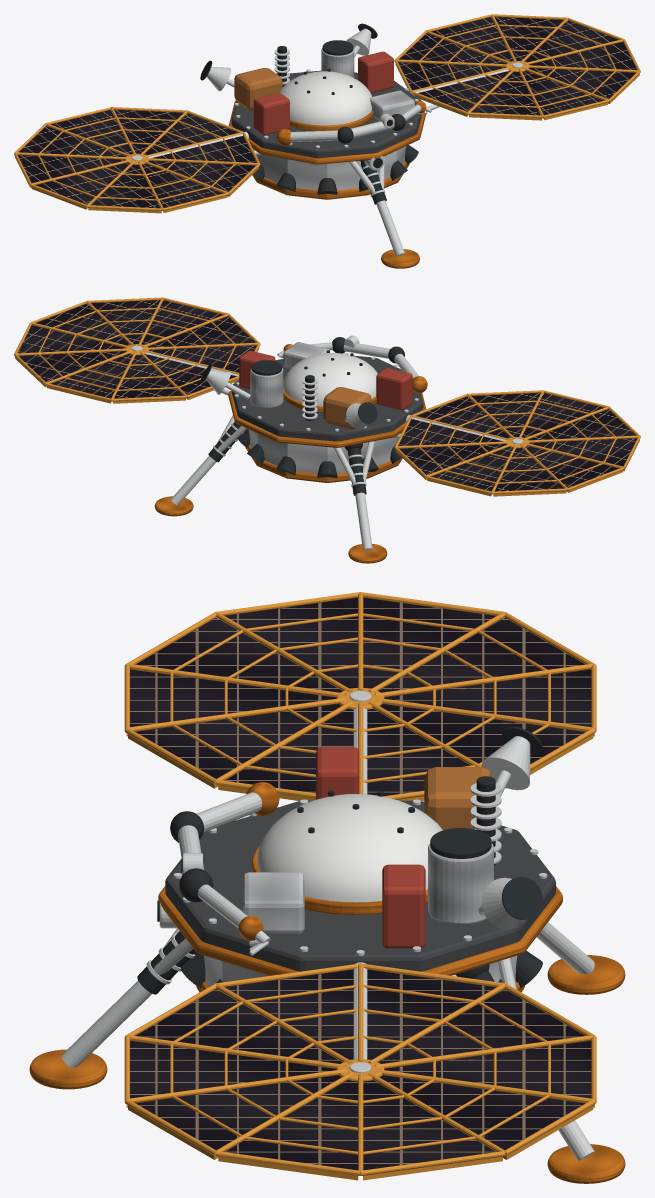
Rendered from insight.glb.
The picture shows the model from 3 angles, top to bottom: view 1: azimuth 30°, elevation 25°; view 2: azimuth 150°, elevation 25°; view 3: azimuth 270°, elevation 25°; orthographic projection. The views are drawn at different scales.
Visible parts, largest first — view 1: SEIS wind shield / white dome, Science deck / black top plate, Thermal enclosure / silver avionics body, Solar array +1 / wedge 07, Solar array -1 / wedge 07, Solar array -1 / wedge 08, Solar array +1 / wedge 08, Solar array -1 / wedge 06, Solar array +1 / wedge 09, Solar array -1 / wedge 09, Solar array -1 / wedge 05, Solar array +1 / wedge 05 (+27 smaller); view 2: Science deck / black top plate, SEIS wind shield / white dome, Thermal enclosure / silver avionics body, Solar array +1 / wedge 04, Solar array -1 / wedge 04, Solar array -1 / wedge 03, Solar array +1 / wedge 03, Solar array -1 / wedge 05, Solar array +1 / wedge 02, Solar array -1 / wedge 02, Solar array -1 / wedge 06, Solar array +1 / wedge 09 (+26 smaller); view 3: Science deck / black top plate, SEIS wind shield / white dome, Solar array +1 / wedge 01, Solar array +1 / wedge 10, Solar array +1 / wedge 02, Solar array +1 / wedge 09, Solar array -1 / wedge 09, Solar array +1 / wedge 08, Solar array -1 / wedge 08, Solar array +1 / wedge 03, Solar array -1 / wedge 03, Solar array -1 / wedge 05 (+51 smaller).
Boxes of the visible parts, bbox=[...] form: SEIS wind shield / white dome: bbox=[279, 71, 372, 125]; Science deck / black top plate: bbox=[231, 70, 421, 158]; Thermal enclosure / silver avionics body: bbox=[253, 146, 406, 190]; Solar array +1 / wedge 07: bbox=[469, 72, 541, 120]; Solar array -1 / wedge 07: bbox=[88, 164, 161, 213]; Solar array -1 / wedge 08: bbox=[142, 163, 227, 212]; Solar array +1 / wedge 08: bbox=[522, 71, 607, 120]; Solar array -1 / wedge 06: bbox=[31, 162, 129, 209]; Solar array +1 / wedge 09: bbox=[529, 68, 639, 103]; Solar array -1 / wedge 09: bbox=[148, 161, 258, 196]; Solar array -1 / wedge 05: bbox=[15, 155, 125, 187]; Solar array +1 / wedge 05: bbox=[395, 62, 505, 91]; Science deck / black top plate: bbox=[231, 355, 423, 441]; SEIS wind shield / white dome: bbox=[283, 353, 377, 406]; Thermal enclosure / silver avionics body: bbox=[248, 429, 401, 473]; Solar array +1 / wedge 04: bbox=[113, 355, 185, 403]; Solar array -1 / wedge 04: bbox=[493, 448, 566, 496]; Solar array -1 / wedge 03: bbox=[427, 447, 512, 496]; Solar array +1 / wedge 03: bbox=[47, 354, 132, 403]; Solar array -1 / wedge 05: bbox=[525, 446, 623, 492]; Solar array +1 / wedge 02: bbox=[15, 351, 125, 387]; Solar array -1 / wedge 02: bbox=[396, 444, 506, 479]; Solar array -1 / wedge 06: bbox=[529, 438, 639, 471]; Solar array +1 / wedge 09: bbox=[88, 300, 160, 344]; Science deck / black top plate: bbox=[165, 800, 555, 971]; SEIS wind shield / white dome: bbox=[257, 794, 442, 902]; Solar array +1 / wedge 01: bbox=[363, 1080, 502, 1180]; Solar array +1 / wedge 10: bbox=[218, 1080, 358, 1180]; Solar array +1 / wedge 02: bbox=[380, 1075, 593, 1159]; Solar array +1 / wedge 09: bbox=[128, 1075, 341, 1159]; Solar array -1 / wedge 09: bbox=[128, 704, 341, 788]; Solar array +1 / wedge 08: bbox=[126, 1041, 336, 1107]; Solar array -1 / wedge 08: bbox=[126, 669, 336, 736]; Solar array +1 / wedge 03: bbox=[384, 1041, 594, 1107]; Solar array -1 / wedge 03: bbox=[384, 669, 594, 736]; Solar array -1 / wedge 05: bbox=[363, 597, 502, 688].
Bounding box in the file's own units: 6.02 × 1.36 × 2.61.
Materials: 12 (3 with a texture image).
